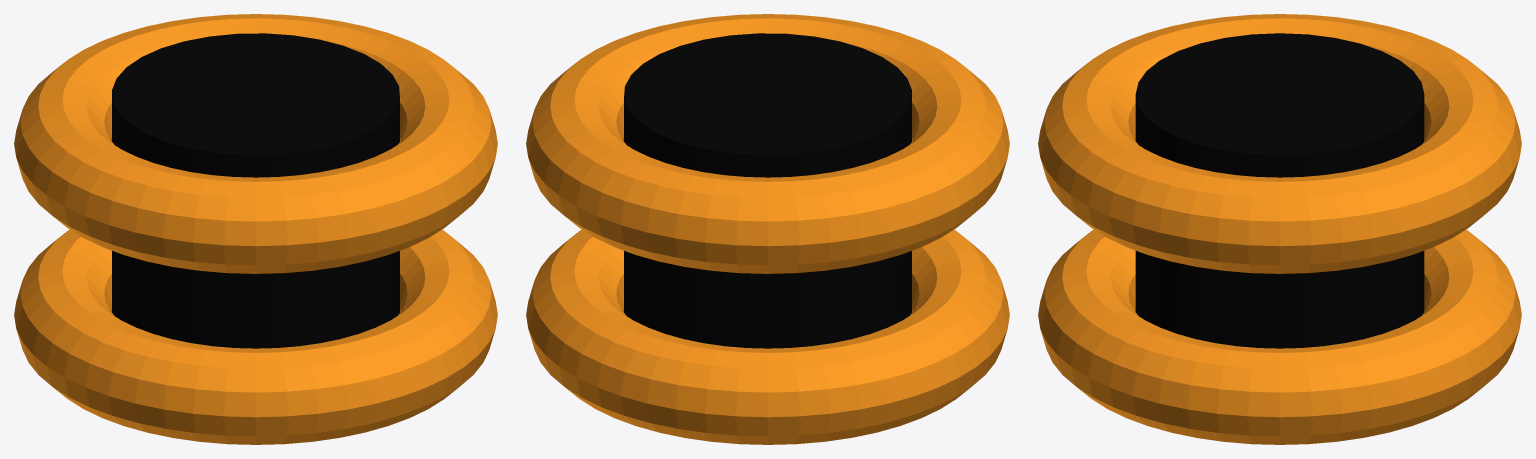
File: Narancs torony kozepso.glb
3 renders of one model, left to right at view 1: azimuth 30°, elevation 25°; view 2: azimuth 150°, elevation 25°; view 3: azimuth 270°, elevation 25°, orthographic.
Parts seen in each view (by area): view 1: Torus.003; view 2: Torus.003; view 3: Torus.003.
Part boxes in pixels (x1,y1,x2,y2): Torus.003: (14,14,497,444); Torus.003: (526,14,1009,444); Torus.003: (1038,14,1521,444).
Bounding box in the file's own units: 1.51 × 0.9126 × 1.51.
